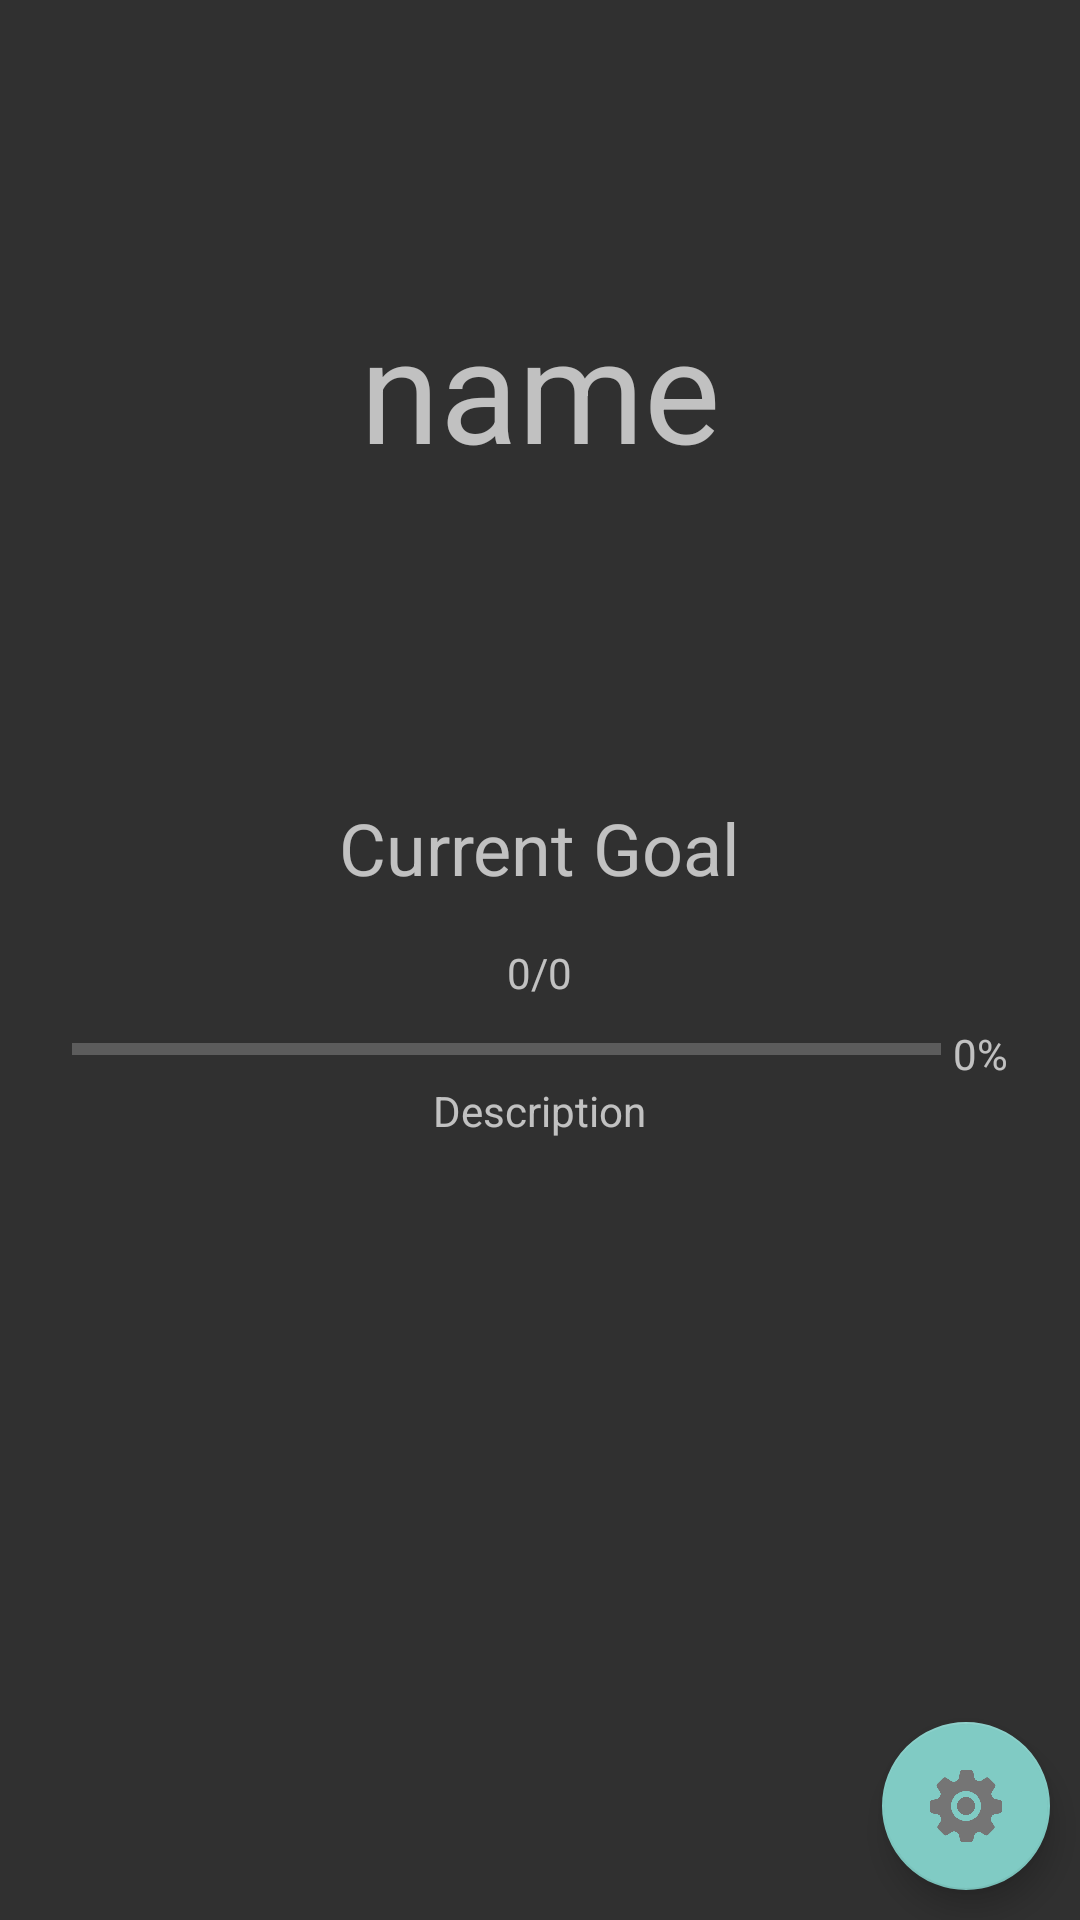

Icons on this 1080 x 1920 Android screen, each with the point to tap as point (x, y):
settings: point (966, 1806)
